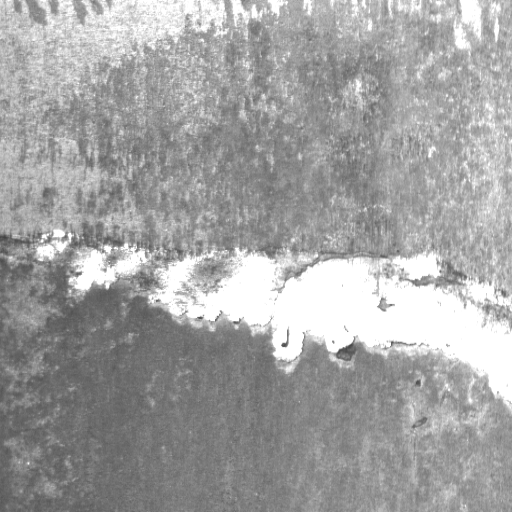qiaopi: (2, 230, 512, 412)
